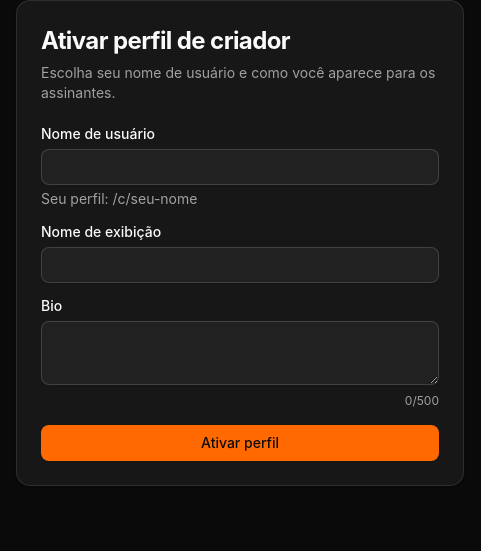
ActivateCreatorPage › shows client validation errors without posting
Type "ab" into the field labelled "Nome de usuário" at [240, 167], box [41, 149, 439, 185]
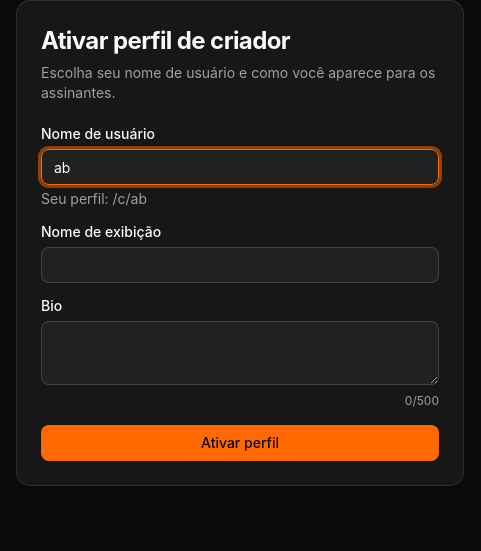
Type "Davi Lima" into the field labelled "Nome de exibição" at [240, 265], box [41, 247, 439, 283]
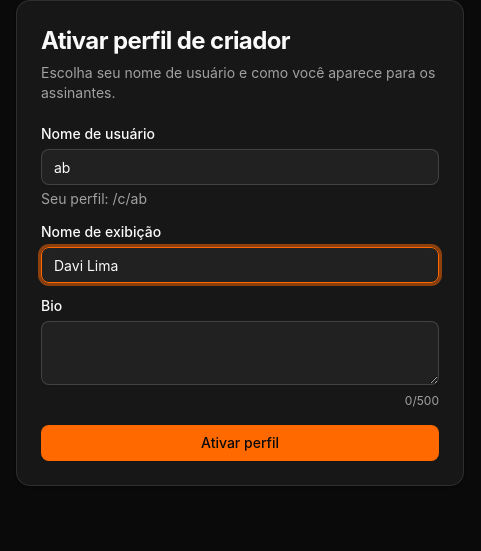
Click the button "Ativar perfil" at [240, 443], box [41, 425, 439, 461]
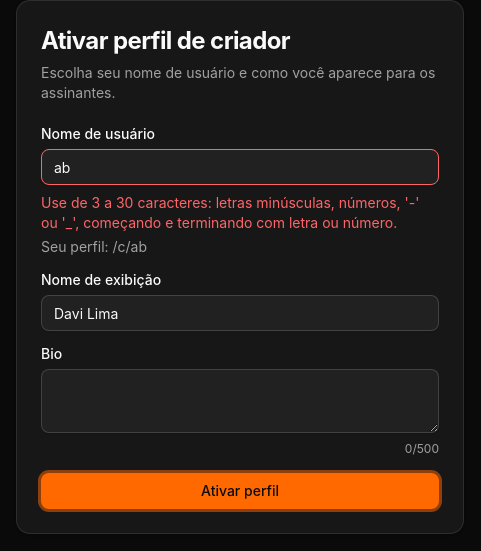
Result: the text "Use de 3 a 30 caracteres" is shown at [41, 194, 419, 231]
